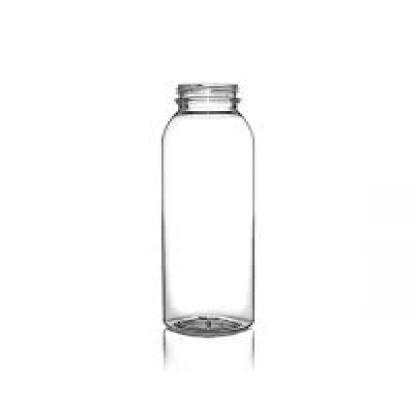trash: (162, 83, 253, 335)
